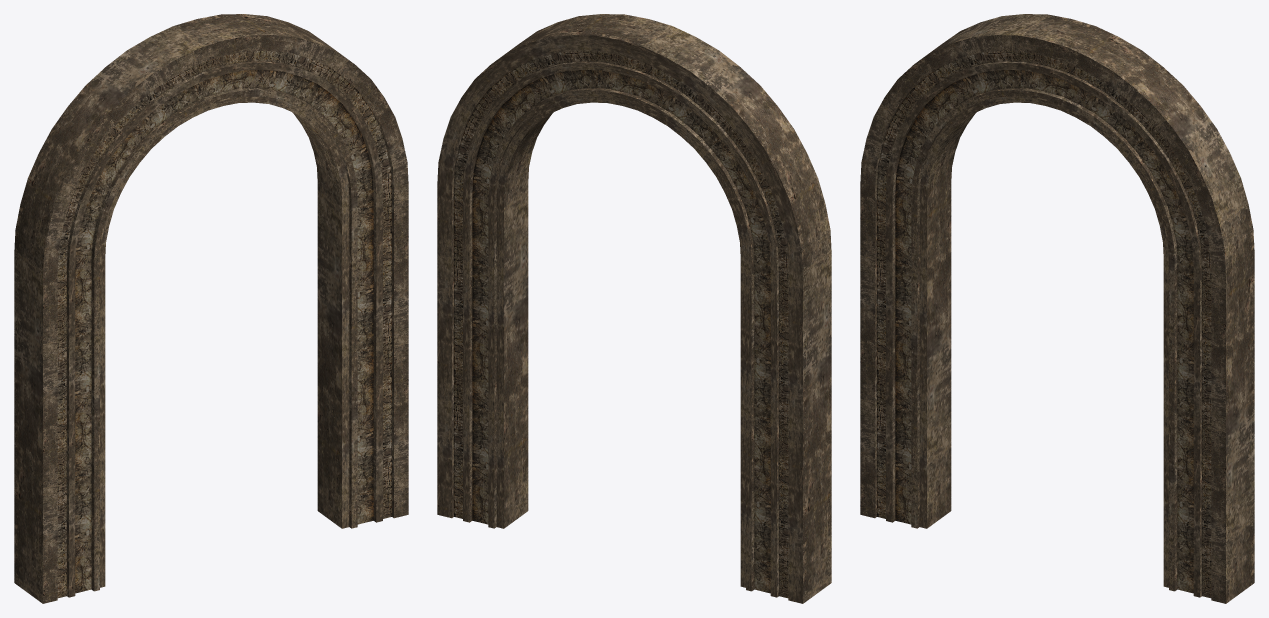
Rendered from materials_5_gate_6.fbx.
3 views of the same model, side by side, from view 1: azimuth 30°, elevation 25°; view 2: azimuth 150°, elevation 25°; view 3: azimuth 330°, elevation 25° (orthographic).
Visible parts, largest first — view 1: materials_5_gate_6; view 2: materials_5_gate_6; view 3: materials_5_gate_6.
Boxes of the visible parts, bbox=[...] form: materials_5_gate_6: bbox=[14, 14, 408, 603]; materials_5_gate_6: bbox=[437, 14, 831, 603]; materials_5_gate_6: bbox=[860, 14, 1254, 603].
Size of the model in its own units: 182 by 247 by 24.8.
